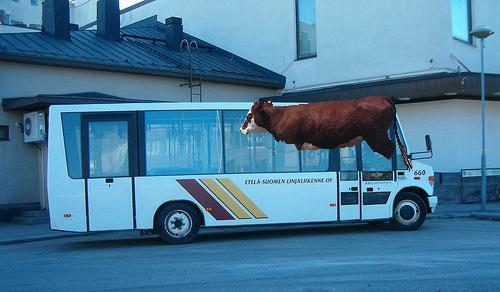tampered: (240, 96, 413, 172)
